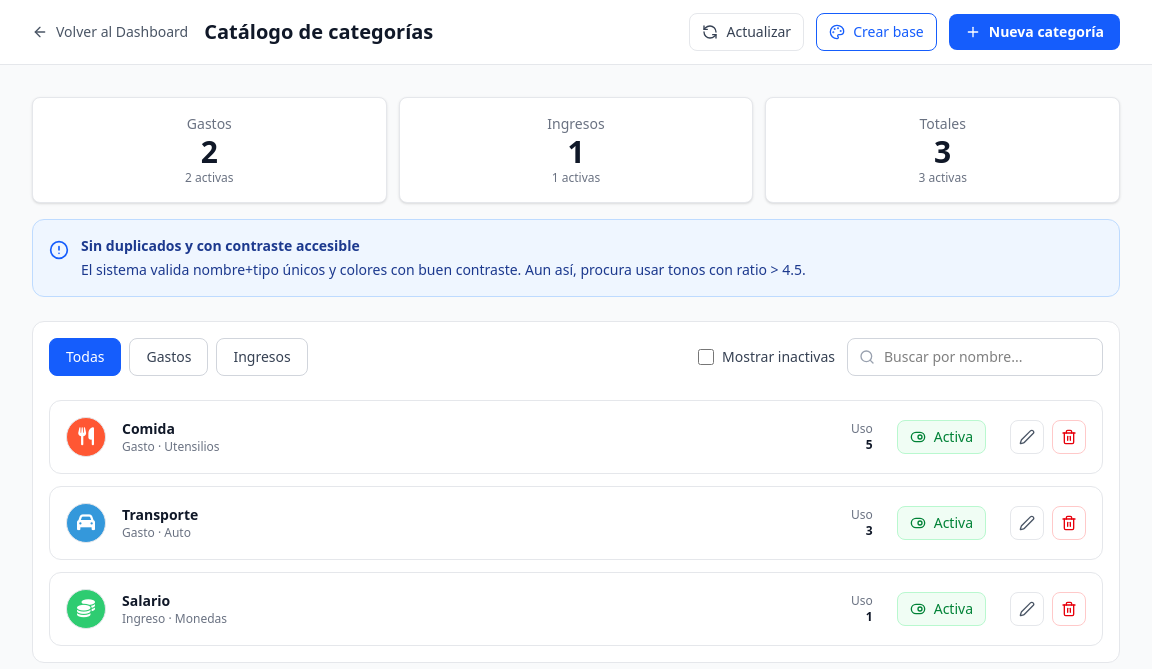
Scenario: CategoriesPage › debe abrir el modal al hacer clic en nueva categoría
What coordinates should you click on to do the following:
click the button "Nueva categoría"
I would click on:
 (1034, 32)
Its box is 949,14 -> 1120,50.
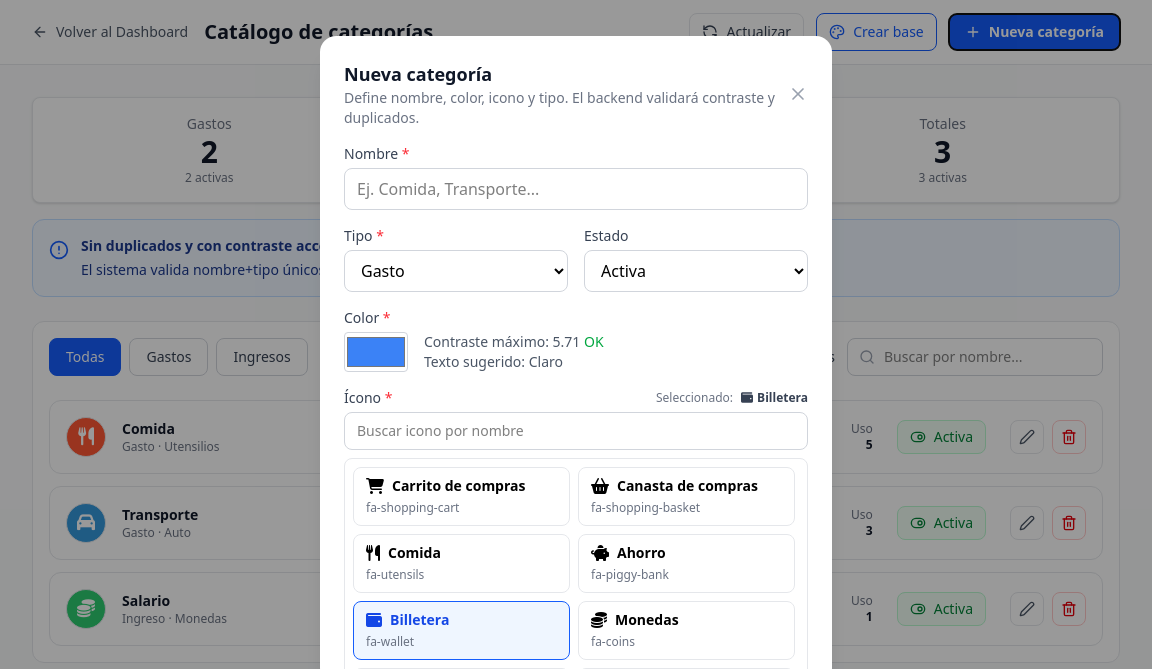
Check: the field with placeholder "Ej. Comida, Transporte..." is shown, box 344,168 -> 808,210
